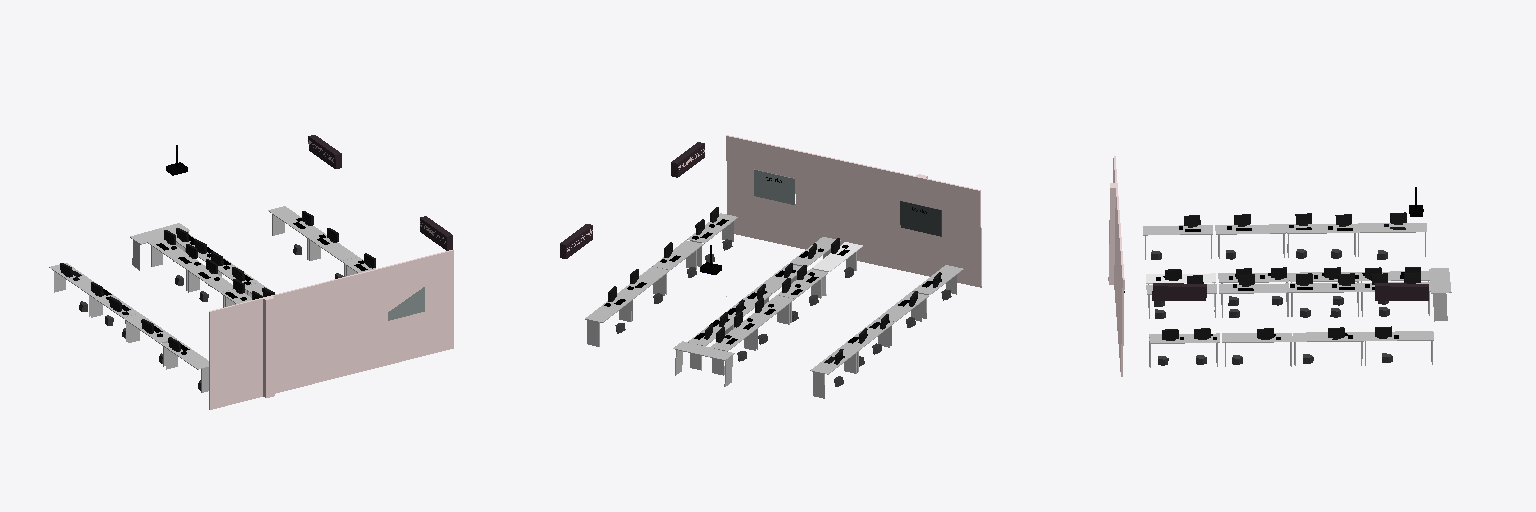
The model's file is lab-b2.obj.
The picture shows the model from 3 angles: view 1: azimuth 30°, elevation 25°; view 2: azimuth 150°, elevation 25°; view 3: azimuth 270°, elevation 25°; orthographic projection.
Parts seen in each view (by area): view 1: Cube.001, Cube.000_Cube.000, Cube.019_Cube.021, Cube.018_Cube.019, Cube.083_Cube.009_Cube.083_Cube.010; view 2: Cube.001, Cube.000_Cube.001, Cube.000_Cube.000, Cube.018_Cube.019, Cube.019_Cube.021, Cube.083_Cube.004_mesa_13, Cube.083_Cube.019_Cube.083_Cube.020_mesa_5, Cube.083_Cube.008_Cube.083_Cube.009, Cube.083_Cube.009_Cube.083_Cube.010, Cube.083_Cube.020_Cube.083_Cube.021_mesa_0; view 3: Cube.001, Cube.018_Cube.019, Cube.019_Cube.021, 2006_Cube.083_Cube.006_Cube.083_Cube.007_mesa_1, 2013.001_Cube.083_Cube.002_Cube.083_Cube.005_mesa_3, Cube.083_Cube.012_Cube.083_Cube.013_mesa_11, 2019_Cube.083_Cube.007_Cube.083_Cube.008_mesa_4, Cube.083_Cube.008_Cube.083_Cube.009, Cube.083_Cube.004_mesa_13, Cube.083_Cube.009_Cube.083_Cube.010.
Part boxes in pixels (left/top/right/bottom): Cube.001: left=209, top=250, right=453, bottom=409; Cube.000_Cube.000: left=388, top=287, right=424, bottom=320; Cube.019_Cube.021: left=308, top=135, right=341, bottom=168; Cube.018_Cube.019: left=420, top=216, right=452, bottom=250; Cube.083_Cube.009_Cube.083_Cube.010: left=305, top=231, right=357, bottom=260; Cube.001: left=726, top=135, right=981, bottom=287; Cube.000_Cube.001: left=900, top=201, right=941, bottom=236; Cube.000_Cube.000: left=754, top=169, right=794, bottom=204; Cube.018_Cube.019: left=671, top=142, right=704, bottom=177; Cube.019_Cube.021: left=560, top=224, right=592, bottom=258; Cube.083_Cube.004_mesa_13: left=585, top=293, right=635, bottom=322; Cube.083_Cube.019_Cube.083_Cube.020_mesa_5: left=812, top=242, right=862, bottom=271; Cube.083_Cube.008_Cube.083_Cube.009: left=652, top=240, right=703, bottom=269; Cube.083_Cube.009_Cube.083_Cube.010: left=619, top=267, right=669, bottom=296; Cube.083_Cube.020_Cube.083_Cube.021_mesa_0: left=673, top=341, right=734, bottom=360; Cube.001: left=1108, top=156, right=1124, bottom=376; Cube.018_Cube.019: left=1152, top=283, right=1206, bottom=300; Cube.019_Cube.021: left=1375, top=283, right=1428, bottom=300; 2006_Cube.083_Cube.006_Cube.083_Cube.007_mesa_1: left=1356, top=223, right=1426, bottom=232; 2013.001_Cube.083_Cube.002_Cube.083_Cube.005_mesa_3: left=1215, top=224, right=1285, bottom=234; Cube.083_Cube.012_Cube.083_Cube.013_mesa_11: left=1219, top=283, right=1289, bottom=293; 2019_Cube.083_Cube.007_Cube.083_Cube.008_mesa_4: left=1143, top=225, right=1212, bottom=235; Cube.083_Cube.008_Cube.083_Cube.009: left=1222, top=333, right=1292, bottom=342; Cube.083_Cube.004_mesa_13: left=1363, top=331, right=1433, bottom=340; Cube.083_Cube.009_Cube.083_Cube.010: left=1293, top=332, right=1363, bottom=341.
Size of the model in its own units: 39.39 by 17.8 by 43.8.